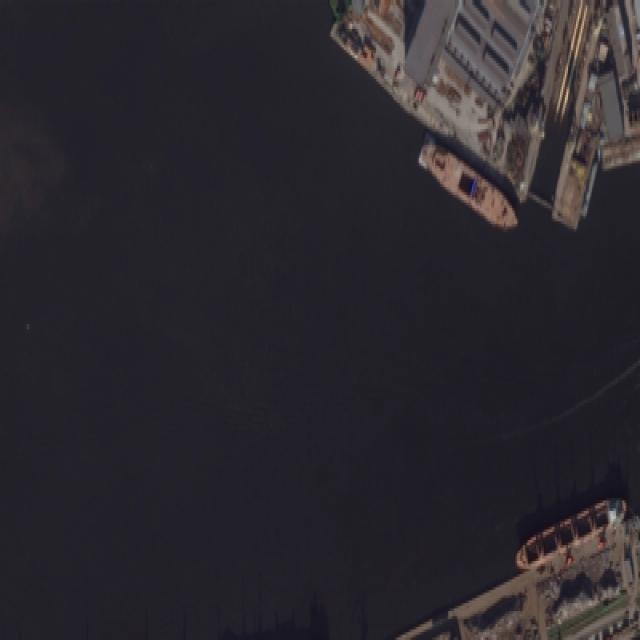boat: (419, 140, 518, 229), (514, 492, 626, 569)
